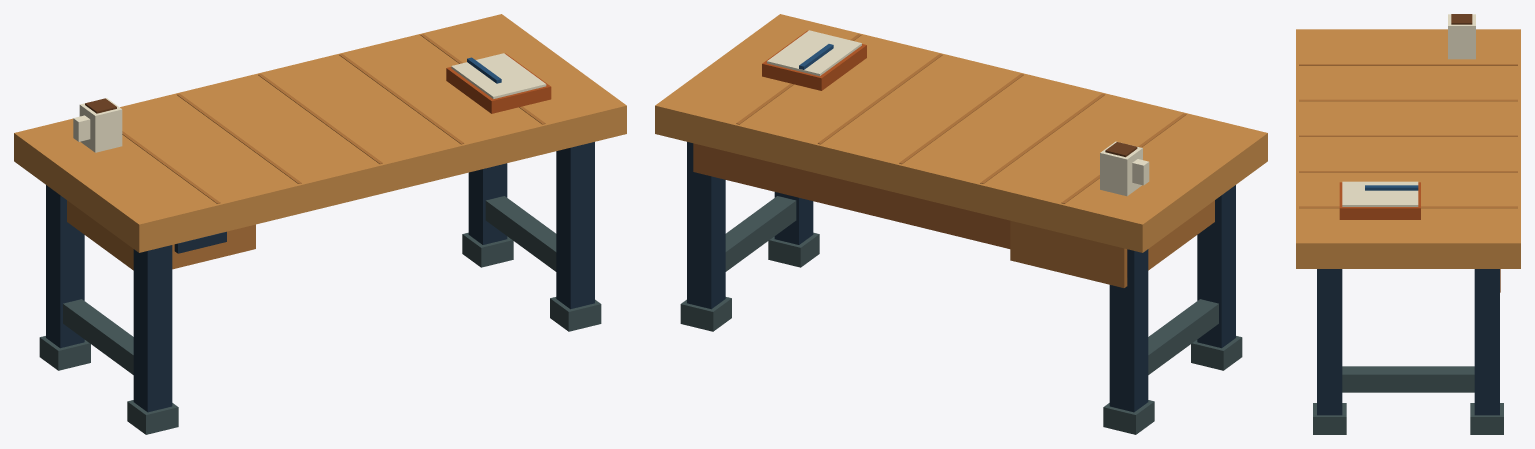
File: desk.glb
3 renders of one model, left to right at view 1: azimuth 30°, elevation 25°; view 2: azimuth 150°, elevation 25°; view 3: azimuth 270°, elevation 25°, orthographic. The views are drawn at different scales.
Visible parts, largest first — view 1: GS019_Desk; view 2: GS019_Desk; view 3: GS019_Desk.
Part boxes in pixels (left/top/right/bottom): GS019_Desk: left=14, top=14, right=626, bottom=434; GS019_Desk: left=655, top=14, right=1267, bottom=434; GS019_Desk: left=1296, top=14, right=1520, bottom=434.
Size of the model in its own units: 1.8 by 0.9165 by 0.8.
